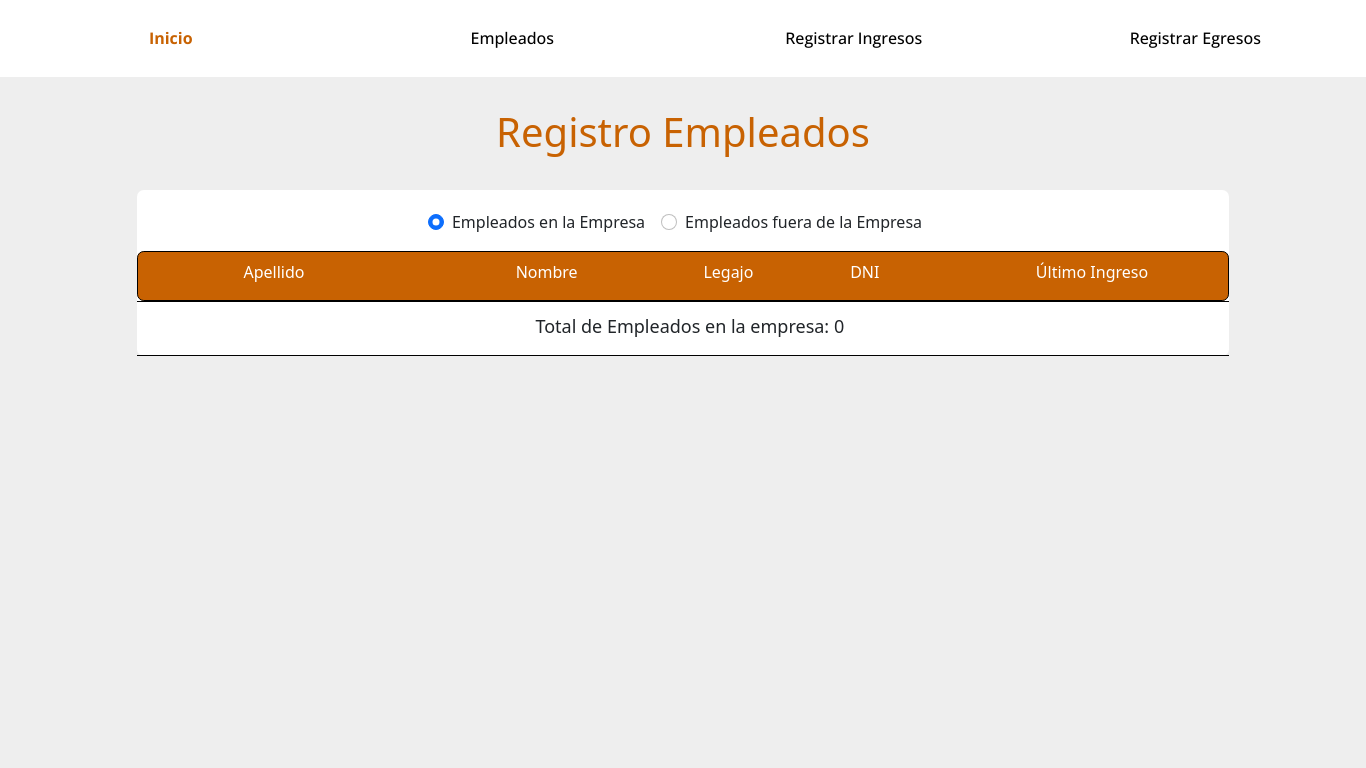
Test: Tabla Empleados › click out, render employees out data
Click the radio button labelled "Empleados fuera de la Empresa".
click(669, 222)  # box top-left (661, 214), bottom-right (677, 230)
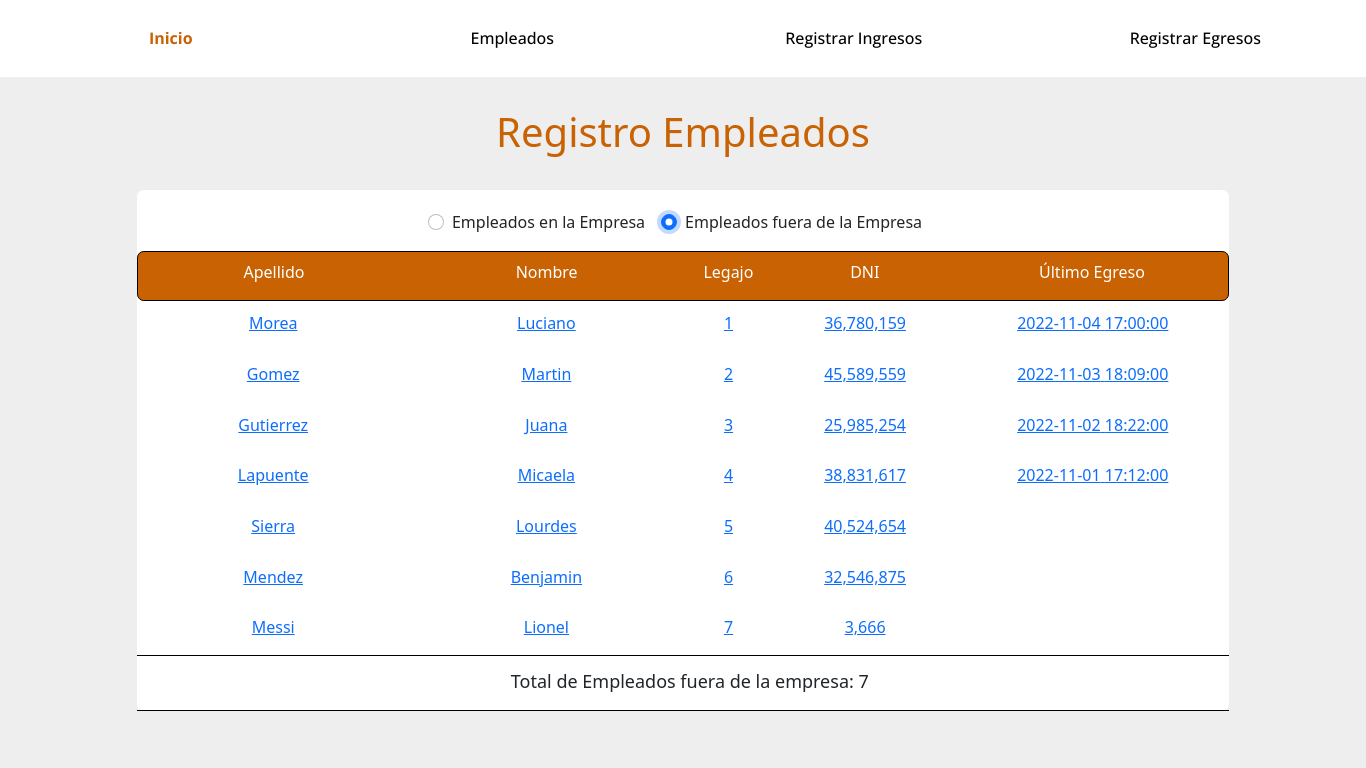
Now the radio button labelled "Empleados fuera de la Empresa" is checked, box top-left (661, 214), bottom-right (677, 230)
Now the text "Messi" is shown, box top-left (252, 616), bottom-right (295, 638)
Now the text "2022-11-04 17:00:00" is shown, box top-left (1017, 312), bottom-right (1168, 334)
